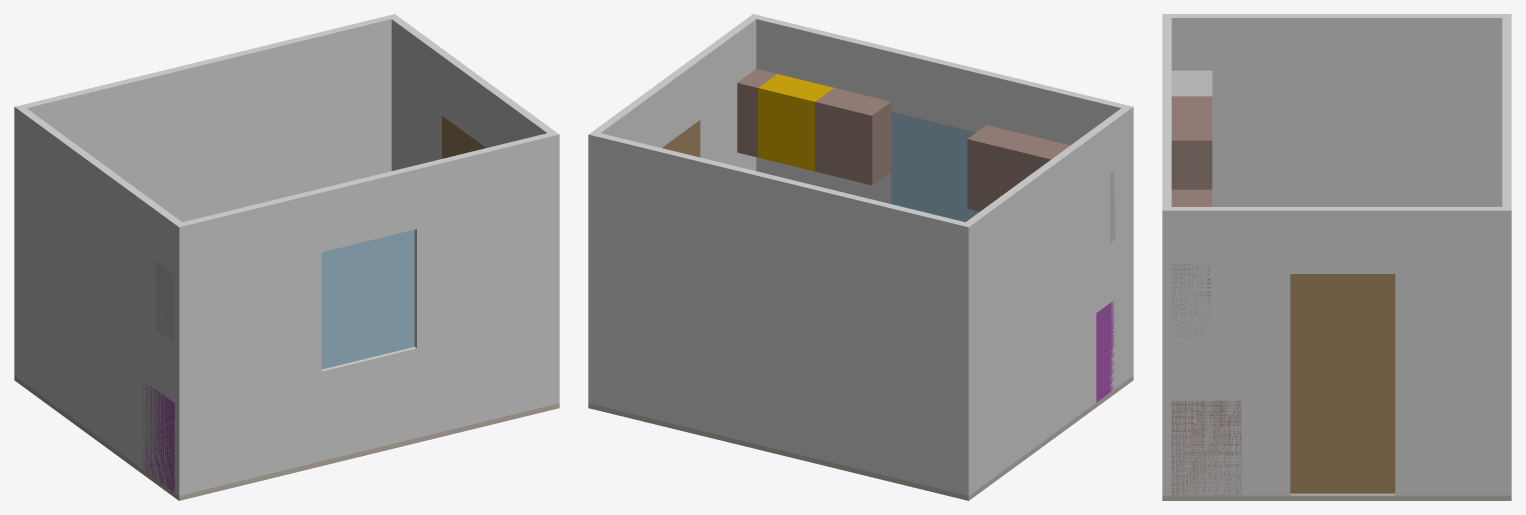
The model's file is kitchen_20251229_140830.glb.
3 renders of one model, left to right at view 1: azimuth 30°, elevation 25°; view 2: azimuth 150°, elevation 25°; view 3: azimuth 270°, elevation 25°, orthographic. The views are drawn at different scales.
Parts seen in each view (by area): view 1: world; view 2: world; view 3: world.
Boxes of the visible parts, x1,y1,x2,y2 form: world: (14,14,559,500); world: (588,14,1133,500); world: (1162,14,1511,500).
Size of the model in its own units: 400 by 275 by 300.
